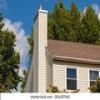chimneys: (34, 6, 48, 92)
